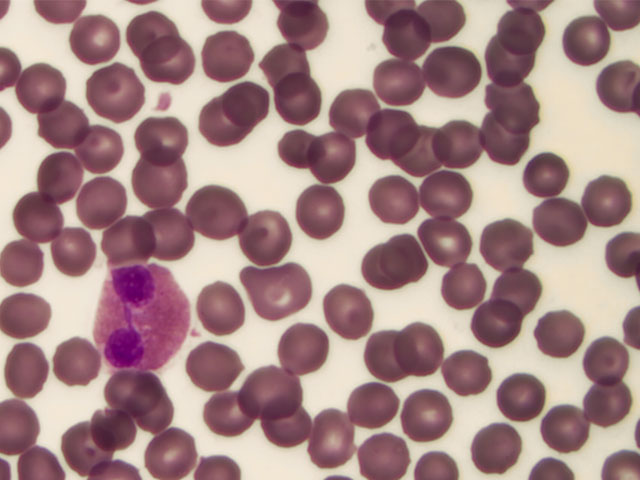Platelets: (157, 89, 175, 111)
RBC: (68, 11, 119, 67), (12, 55, 63, 111), (30, 96, 81, 152), (77, 119, 128, 175), (87, 65, 138, 121), (94, 64, 145, 120), (30, 150, 81, 206), (81, 172, 132, 228), (124, 155, 175, 211), (143, 114, 194, 170), (189, 180, 240, 236), (149, 207, 200, 263), (105, 216, 156, 272), (73, 178, 124, 234), (49, 223, 100, 279), (13, 194, 64, 250), (1, 238, 52, 294), (6, 337, 57, 393), (46, 335, 97, 391), (57, 419, 108, 475), (2, 396, 53, 452), (92, 403, 143, 459), (107, 361, 158, 417), (127, 384, 178, 440), (156, 424, 207, 480), (197, 383, 248, 439), (194, 344, 245, 400), (193, 280, 244, 336), (248, 260, 299, 316), (243, 212, 294, 268), (301, 179, 352, 235), (307, 136, 358, 192), (285, 123, 336, 179), (280, 79, 331, 135), (228, 76, 279, 132), (204, 93, 255, 149), (200, 34, 251, 90), (148, 35, 199, 91), (123, 11, 174, 67), (252, 27, 303, 83), (276, 2, 327, 58), (327, 78, 378, 134), (370, 55, 421, 111), (379, 14, 430, 70), (426, 44, 477, 100), (366, 107, 417, 163), (396, 121, 447, 177), (438, 118, 489, 174), (474, 115, 525, 171), (482, 74, 533, 130), (486, 28, 537, 84), (507, 9, 558, 65), (569, 18, 620, 74), (589, 62, 640, 118), (581, 173, 632, 229), (536, 192, 587, 248), (519, 155, 570, 211), (487, 217, 538, 273), (429, 217, 480, 273), (425, 173, 476, 229), (373, 175, 424, 231), (383, 231, 434, 287), (363, 240, 414, 296), (330, 279, 381, 335), (275, 313, 326, 369), (248, 368, 299, 424), (265, 402, 316, 458), (309, 415, 360, 471), (341, 378, 392, 434), (349, 327, 400, 383), (396, 325, 447, 381), (439, 343, 490, 399), (403, 388, 454, 444), (474, 421, 525, 477), (493, 371, 544, 427), (543, 404, 594, 460), (535, 297, 586, 353), (472, 294, 523, 350), (489, 261, 540, 317), (444, 257, 495, 313), (578, 326, 629, 382), (586, 375, 637, 431), (356, 424, 407, 480), (1, 289, 51, 345)
WBC: (87, 264, 196, 372)
